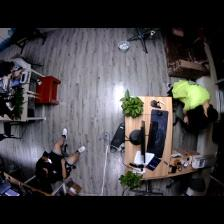normal: (166, 81, 218, 128), (37, 130, 84, 180), (1, 56, 32, 75)
